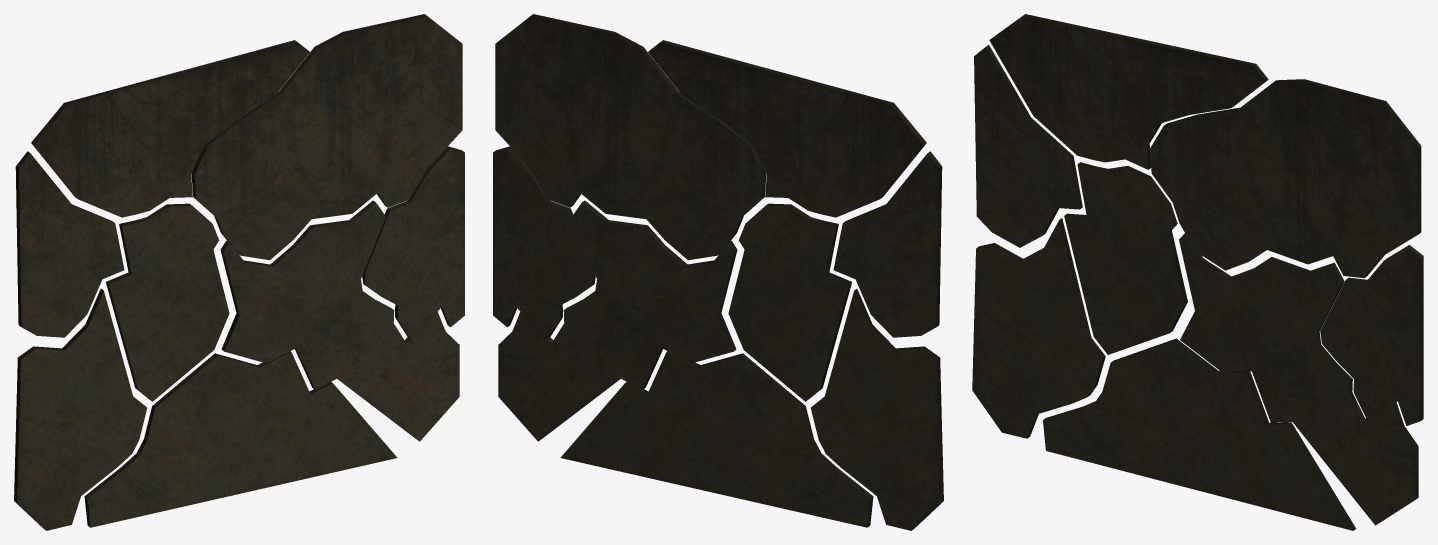
Rendered from 03_02_containment_cube_glass_shards_side.dae.
The picture shows the model from 3 angles, left to right: view 1: azimuth 30°, elevation 25°; view 2: azimuth 150°, elevation 25°; view 3: azimuth 330°, elevation 25°; orthographic projection.
Visible parts, largest first — view 1: shards_side; view 2: shards_side; view 3: shards_side.
Boxes of the visible parts, <box> form: shards_side: <box>14,14,464,530</box>; shards_side: <box>493,14,943,530</box>; shards_side: <box>972,14,1423,530</box>.
Size of the model in its own units: 3.48 by 3.26 by 0.041.
